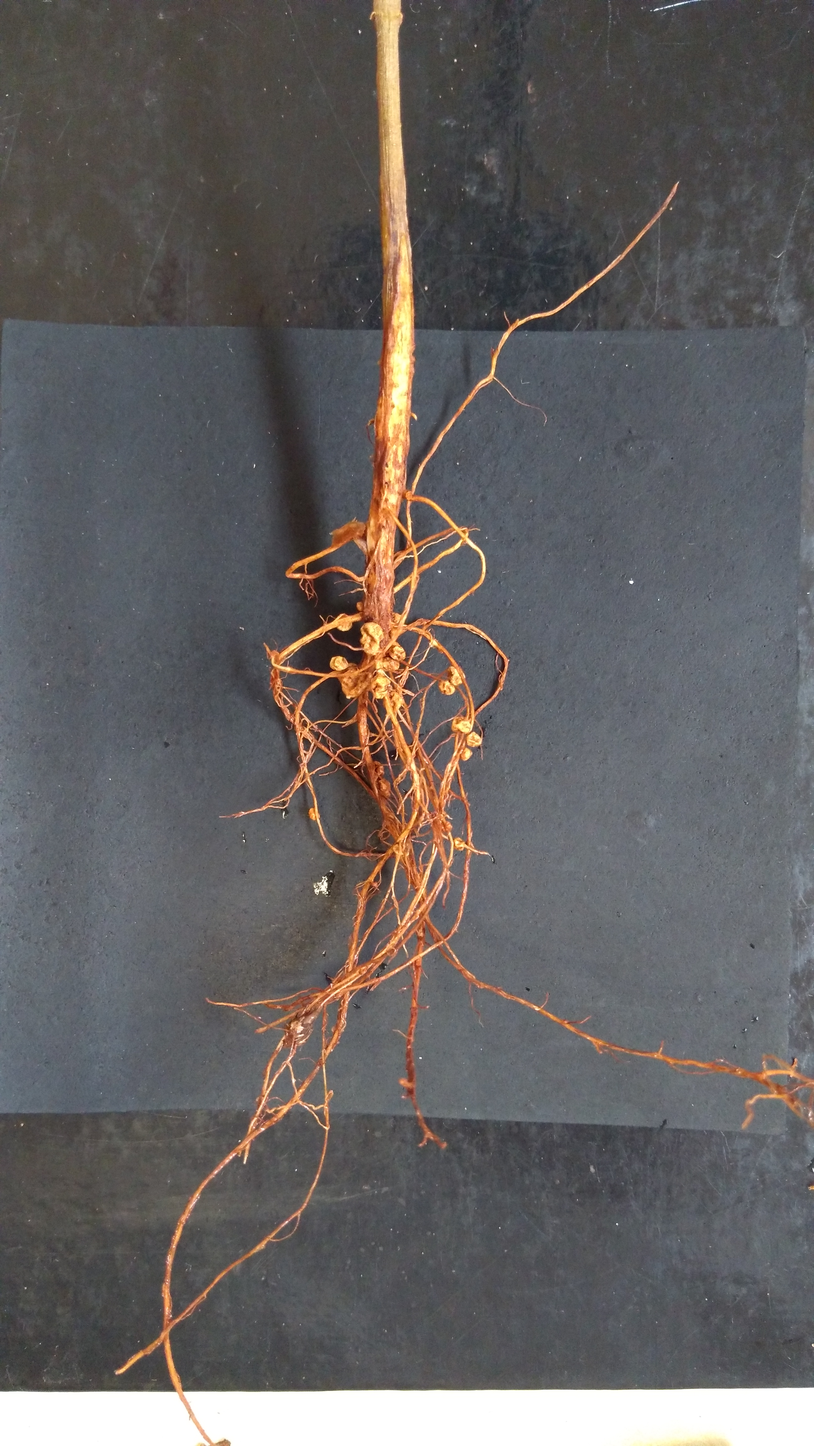nodule: (336, 670, 371, 701), (359, 622, 382, 657), (370, 674, 392, 701), (446, 665, 468, 687), (450, 715, 472, 735), (335, 613, 353, 632), (329, 655, 349, 672), (393, 840, 411, 858), (389, 643, 406, 662), (376, 778, 393, 797), (380, 656, 400, 672), (389, 691, 404, 712), (437, 680, 456, 696), (466, 731, 483, 748), (460, 746, 474, 762), (372, 760, 385, 777), (390, 627, 408, 638), (308, 806, 321, 821), (453, 837, 465, 852), (440, 818, 452, 833), (391, 612, 402, 623), (355, 601, 365, 612)
